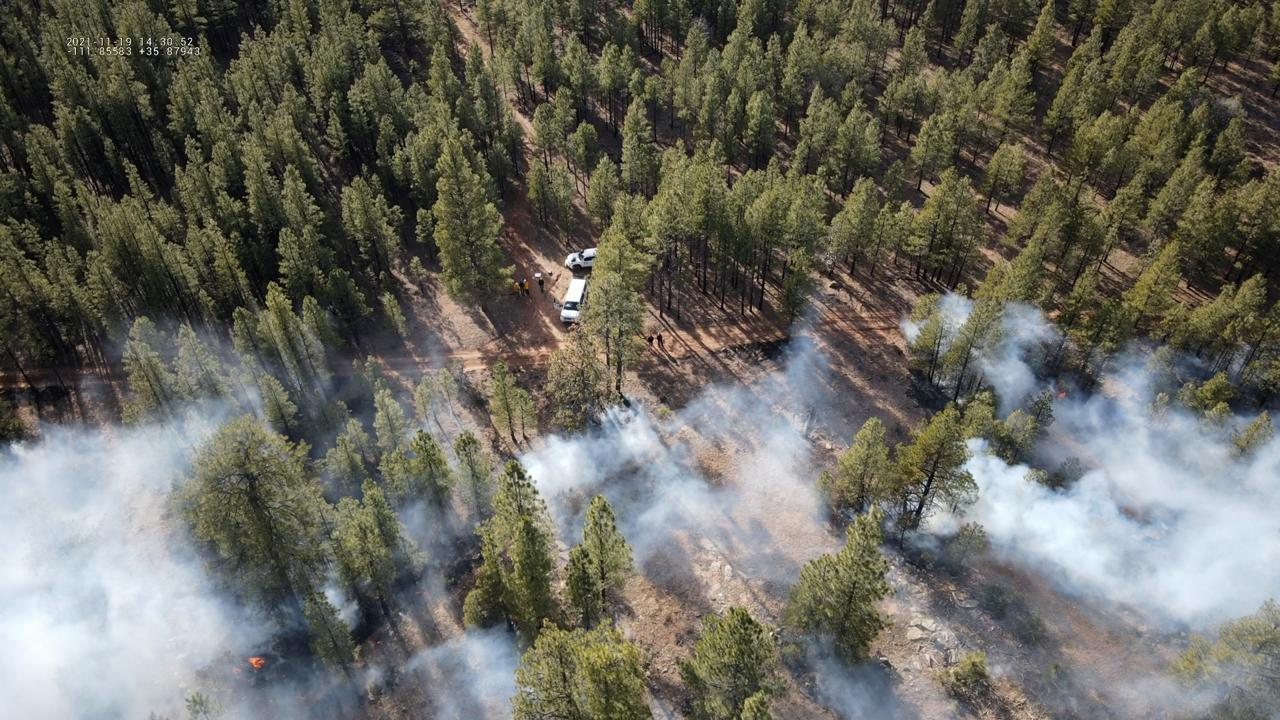fire: (248, 656, 267, 671), (1056, 389, 1068, 403), (232, 667, 243, 677)
smoke: (0, 286, 1280, 720)
